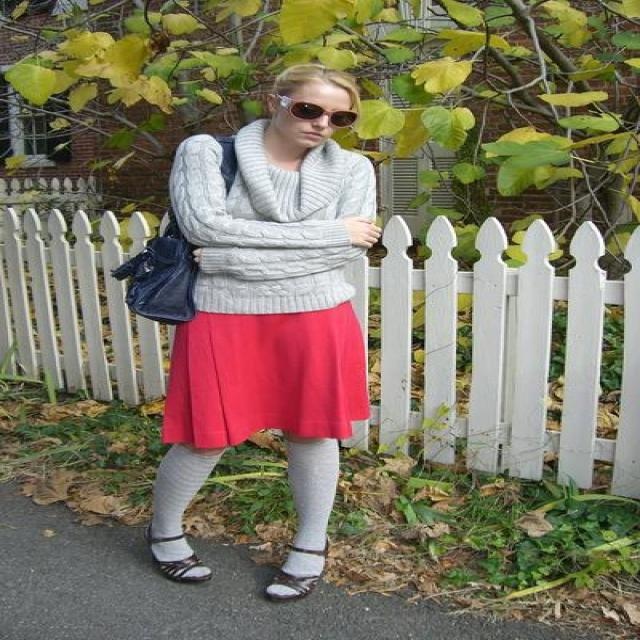bag: (112, 141, 245, 327)
jacket: (170, 120, 376, 312)
shoe: (147, 557, 317, 605)
skirt: (158, 302, 380, 447)
sunglass: (291, 102, 355, 126)
